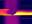Hotspot: (14, 10, 31, 15)
